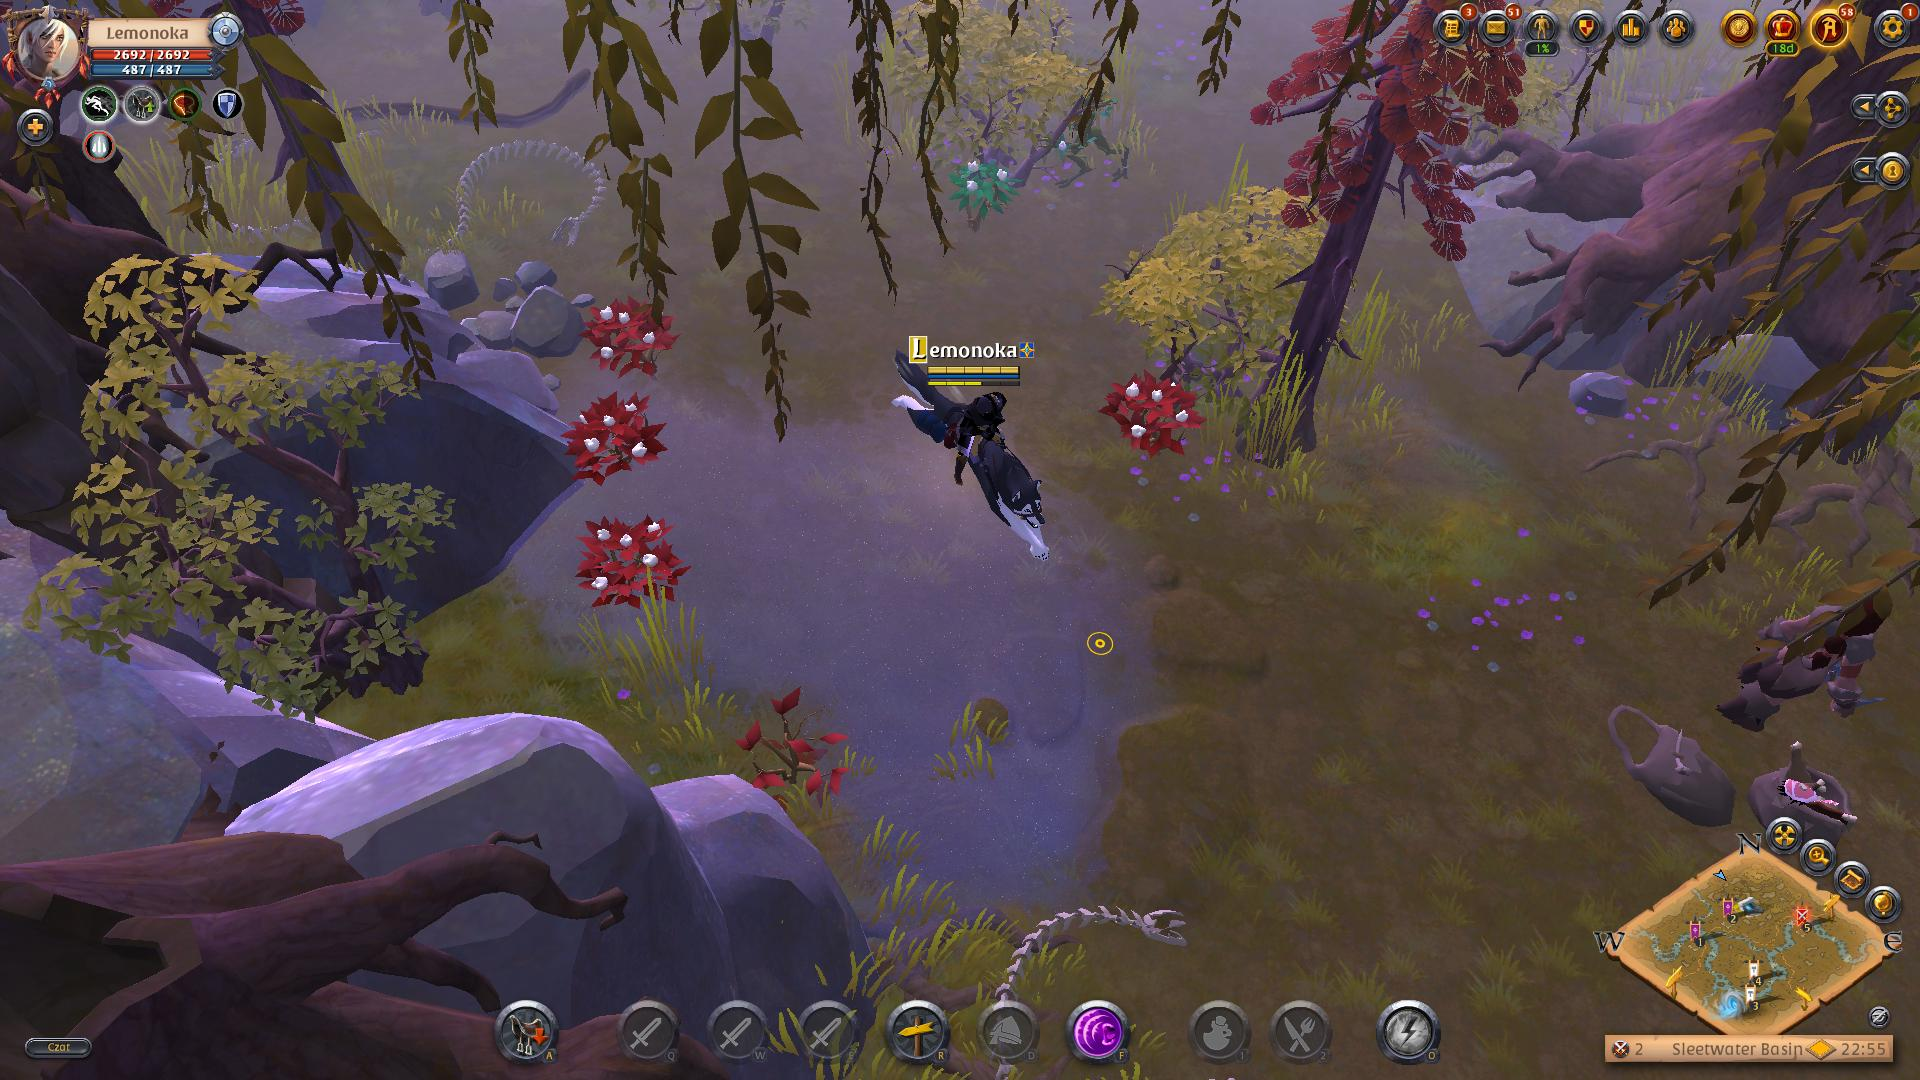fiber tier 3: (939, 157, 1025, 233)
fiber tier 5: (1095, 364, 1208, 465), (574, 512, 684, 613), (562, 390, 670, 492), (579, 295, 683, 377)
